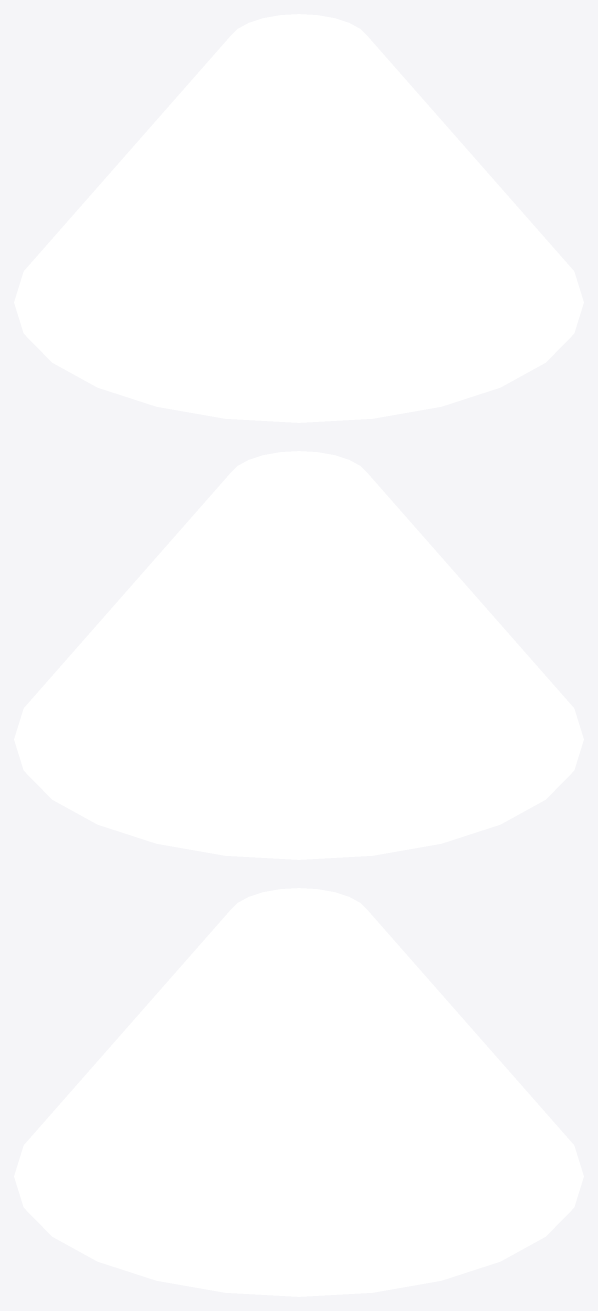
File: sp_moonbeam.glb
3 renders of one model, top to bottom at view 1: azimuth 30°, elevation 25°; view 2: azimuth 150°, elevation 25°; view 3: azimuth 270°, elevation 25°, orthographic.
Parts seen in each view (by area): view 1: spire; view 2: spire; view 3: spire.
Boxes of the visible parts, x1,y1,x2,y2 form: spire: (14, 14, 583, 422); spire: (14, 451, 583, 859); spire: (14, 888, 583, 1296).
Bounding box in the file's own units: 2 × 1 × 2.
Materials: 1 (1 with a texture image).
